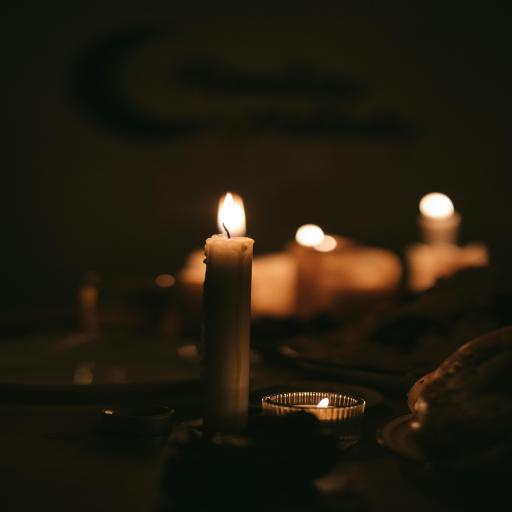candlelight: (190, 189, 264, 425)
